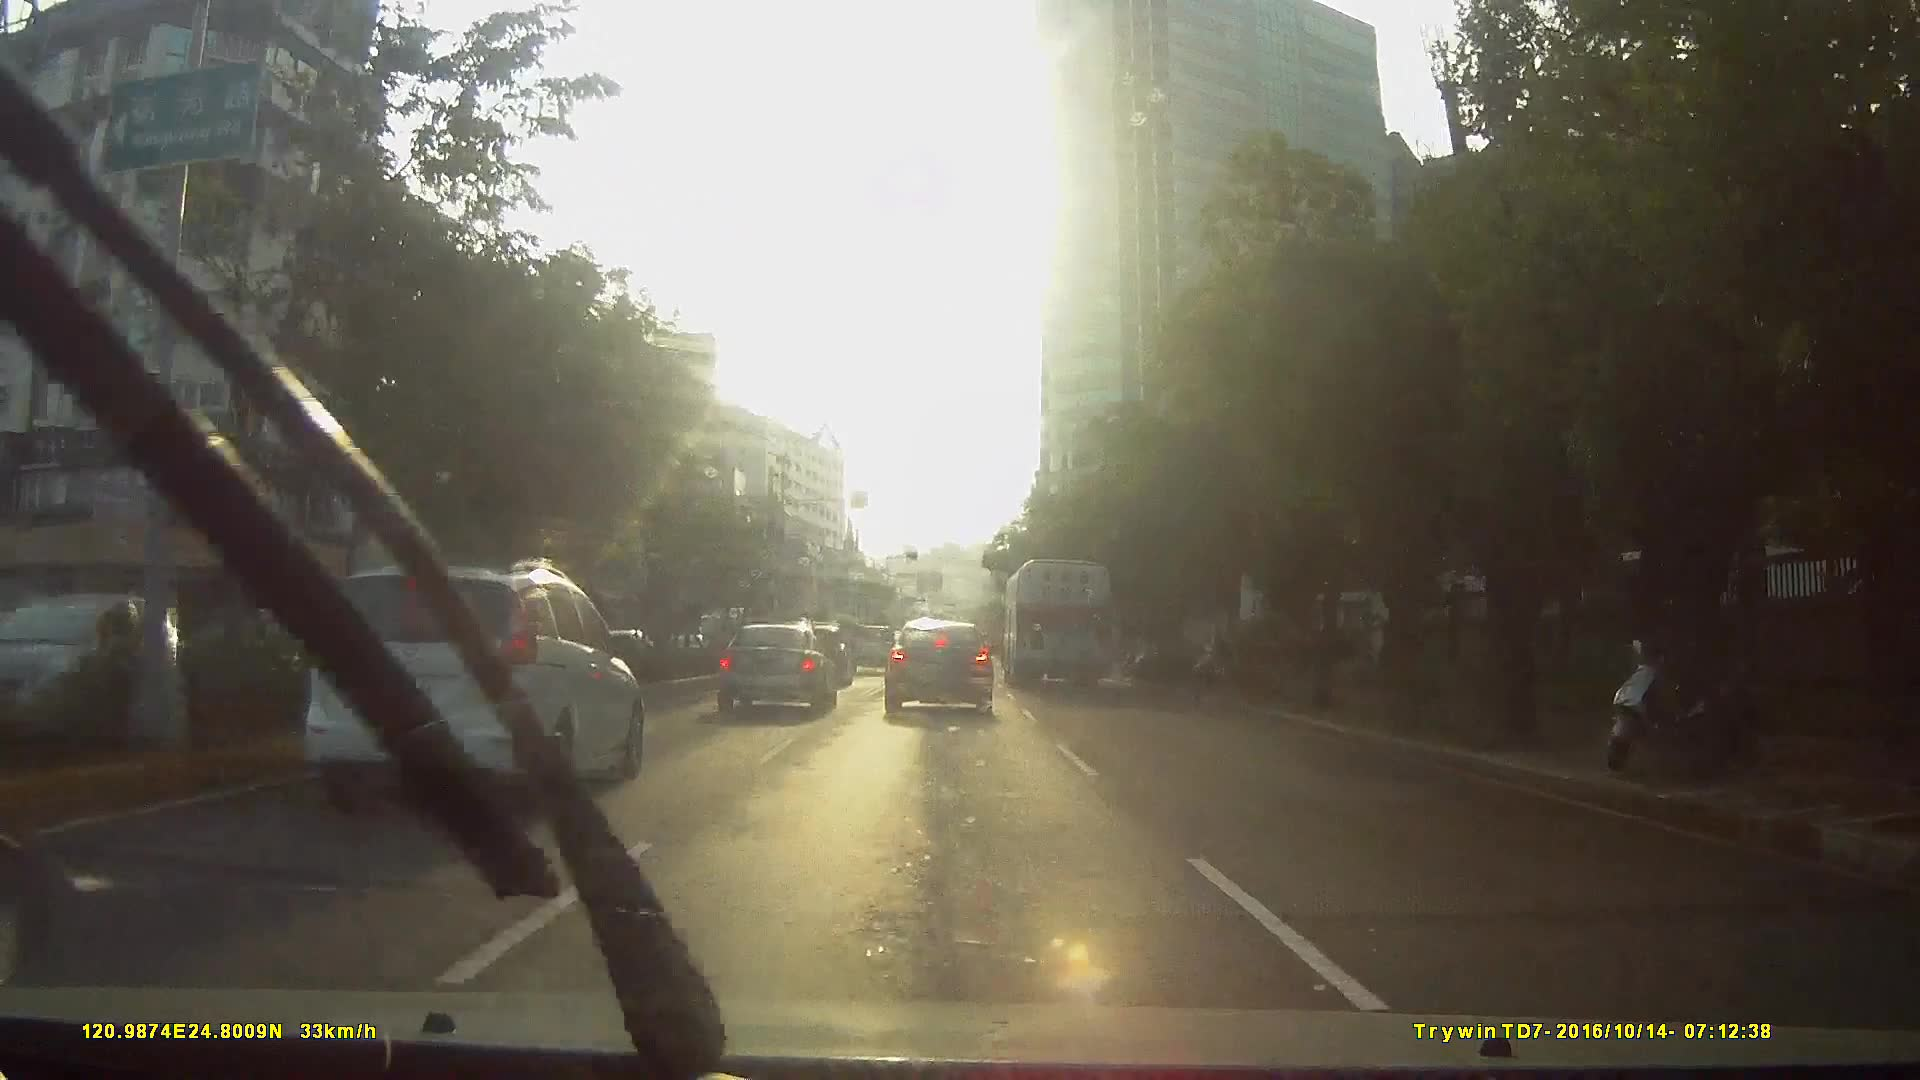vehicle: (251, 556, 684, 868), (293, 556, 642, 815), (1, 593, 215, 746), (1005, 551, 1114, 684), (882, 615, 994, 720), (713, 622, 837, 717), (848, 621, 898, 671)
